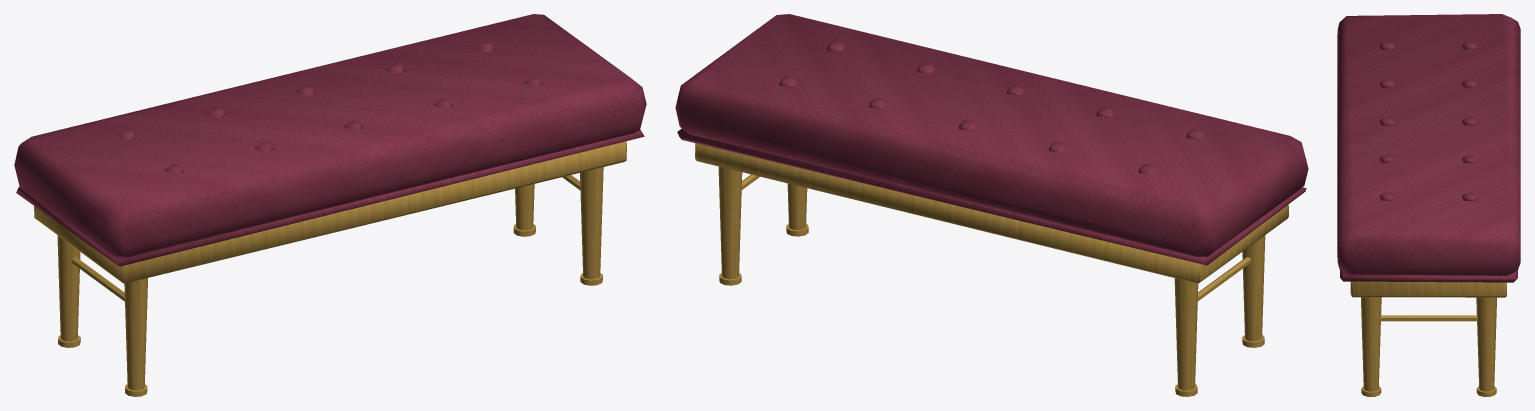
Rendered from banco-estofado-13-leve.glb.
3 views of the same model, side by side, from view 1: azimuth 30°, elevation 25°; view 2: azimuth 150°, elevation 25°; view 3: azimuth 270°, elevation 25° (orthographic). The views are drawn at different scales.
Visible parts, largest first — view 1: almofada, quadro, vivo, perna, perna.002, perna.001, perna.003; view 2: almofada, quadro, vivo, perna.003, perna.001, perna, perna.002; view 3: almofada, quadro, perna.002, perna.003, vivo, longarina.001.
Part boxes in pixels (x1,y1,x2,y2): almofada: (14, 14, 646, 257); quadro: (34, 141, 626, 283); vivo: (16, 129, 644, 266); perna: (124, 278, 147, 390); perna.002: (580, 167, 603, 279); perna.001: (57, 235, 80, 341); perna.003: (515, 184, 534, 230); almofada: (675, 14, 1308, 257); quadro: (695, 143, 1288, 283); vivo: (677, 128, 1306, 265); perna.003: (718, 166, 742, 279); perna.001: (1174, 278, 1198, 390); perna: (1242, 235, 1265, 341); perna.002: (787, 183, 807, 230); almofada: (1337, 14, 1520, 275); quadro: (1350, 281, 1506, 297); perna.002: (1361, 297, 1381, 391); perna.003: (1476, 297, 1496, 391); vivo: (1340, 270, 1517, 282); longarina.001: (1380, 315, 1477, 321).
Size of the model in its own units: 1.3 by 0.4775 by 0.4453.
Materials: 2 (2 with a texture image).
